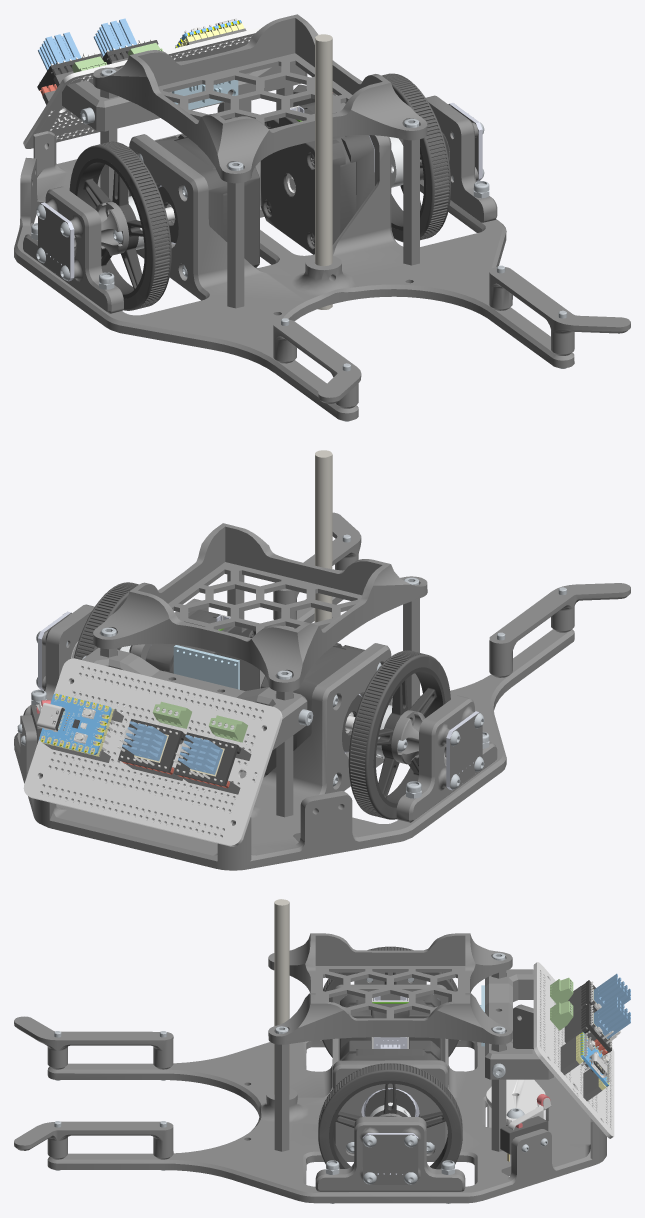
Rendered from roto.glb.
The picture shows the model from 3 angles, top to bottom: view 1: azimuth 30°, elevation 25°; view 2: azimuth 150°, elevation 25°; view 3: azimuth 270°, elevation 25°; orthographic projection. The views are drawn at different scales.
Parts seen in each view (by area): view 1: m3 standoff, Cuerpo008, tyre, rim, Part 3, W420 Ball Caster, Prevailing torque nut M3x0.5, TMC2209 v1:1__Body2, Imported107, pololu-universal-aluminum-mounting-hub-for-5mm-shaft-4-40-ho, Part 1, MPU9250 (+1 smaller); view 2: m3 standoff, W420 Ball Caster, tyre, rim, Cuerpo008, Part 3, TMC2209 v1:1__Body2, Prevailing torque nut M3x0.5, Imported107, Imported204, MPU9250, PlasticBody (+3 smaller); view 3: m3 standoff, W420 Ball Caster, tyre, Cuerpo008, Imported107, rim, Prevailing torque nut M3x0.5, Part 3, TMC2209 v1:1__Body2, PlasticBody, Limit switch, PPTC091LFBN-RC (+1 smaller).
Boxes of the visible parts, x1,y1,x2,y2 form: m3 standoff: (14, 14, 630, 420); Cuerpo008: (155, 102, 374, 267); tyre: (69, 73, 451, 310); rim: (37, 40, 426, 298); Part 3: (315, 34, 332, 309); W420 Ball Caster: (23, 27, 262, 148); Prevailing torque nut M3x0.5: (31, 68, 566, 421); TMC2209 v1:1__Body2: (38, 18, 137, 70); Imported107: (38, 28, 478, 281); pololu-universal-aluminum-mounting-hub-for-5mm-shaft-4-40-ho: (128, 137, 403, 249); Part 1: (41, 103, 482, 281); MPU9250: (172, 80, 238, 109); m3 standoff: (14, 512, 630, 870); W420 Ball Caster: (23, 658, 282, 846); tyre: (74, 582, 450, 819); rim: (117, 647, 445, 807); Cuerpo008: (145, 609, 364, 776); Part 3: (314, 450, 332, 622); TMC2209 v1:1__Body2: (122, 721, 222, 774); Prevailing torque nut M3x0.5: (17, 534, 566, 798); Imported107: (42, 612, 482, 790); Imported204: (39, 693, 111, 754); MPU9250: (173, 645, 239, 689); PlasticBody: (152, 701, 247, 742); m3 standoff: (14, 933, 606, 1203); W420 Ball Caster: (486, 962, 614, 1138); tyre: (318, 946, 462, 1169); Cuerpo008: (340, 993, 440, 1116); Imported107: (362, 1036, 602, 1184); rim: (329, 972, 611, 1169); Prevailing torque nut M3x0.5: (54, 953, 547, 1203); Part 3: (274, 899, 289, 1094); TMC2209 v1:1__Body2: (593, 973, 630, 1039); PlasticBody: (550, 977, 573, 1030); Limit switch: (500, 1094, 550, 1161); PPTC091LFBN-RC: (361, 994, 438, 1116).
Bounding box in the file's own units: 0.1721 × 0.1085 × 0.256.
